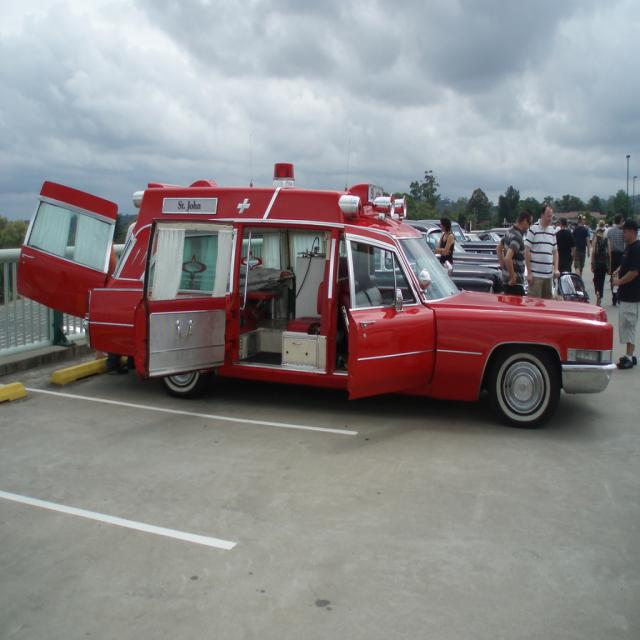Ambulance: (12, 160, 620, 426)
